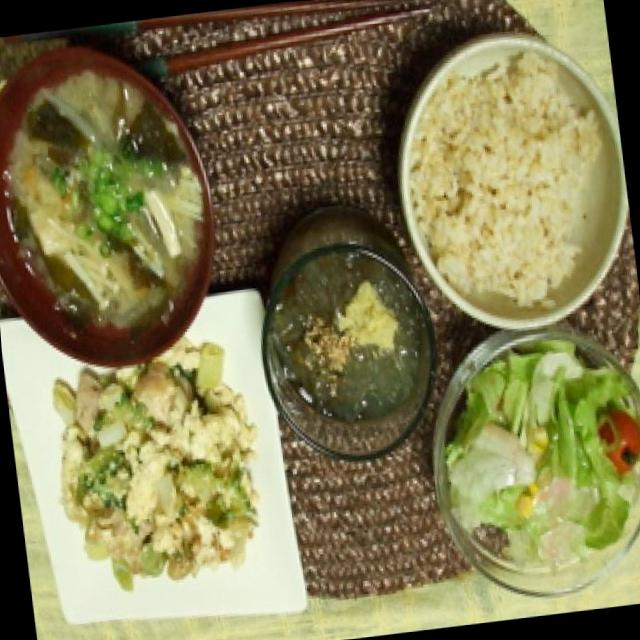Green Salad: (440, 340, 640, 579)
Rice: (397, 57, 621, 309)
